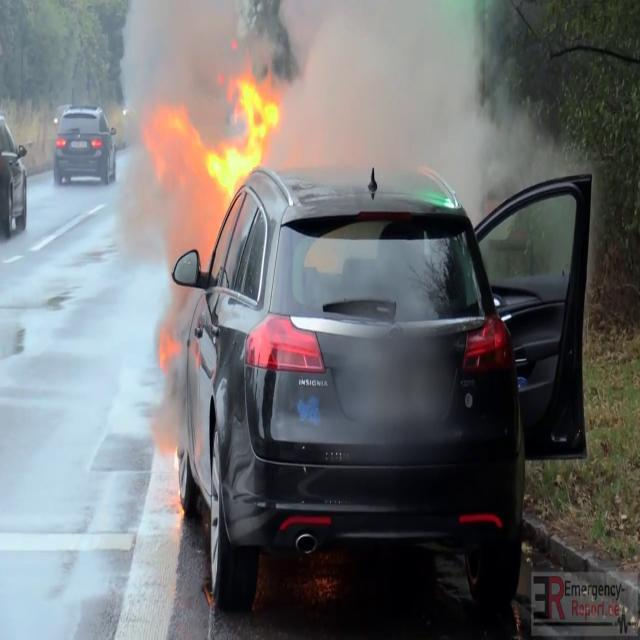Fire: (152, 69, 282, 230)
Smoke: (274, 0, 564, 214)
